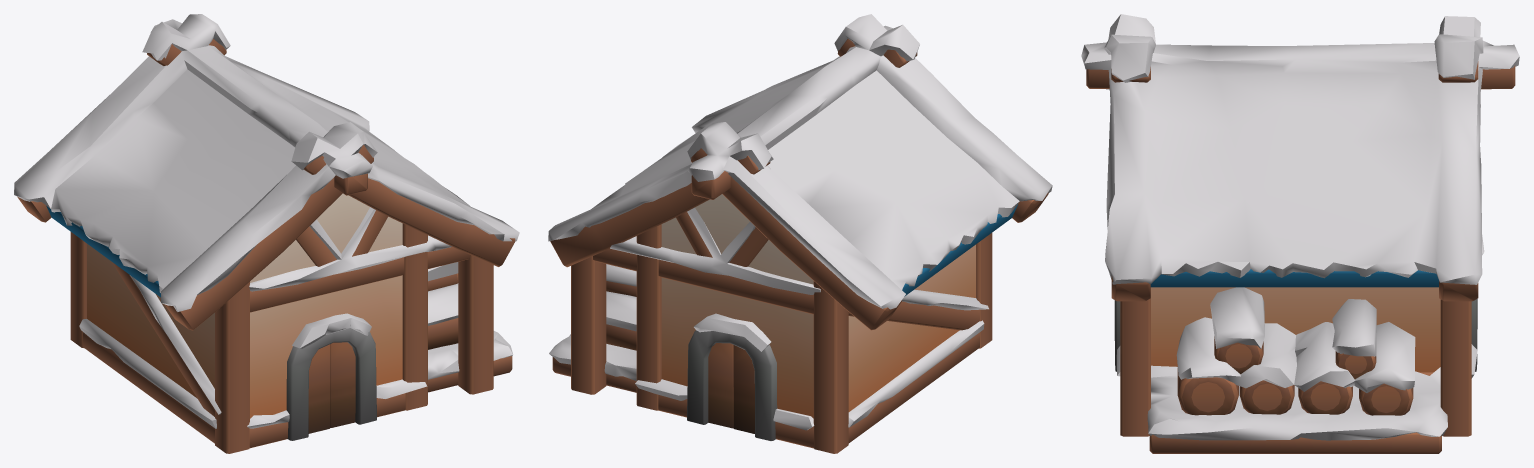
File: WareHouseSnowy_2.fbx
The picture shows the model from 3 angles, left to right: view 1: azimuth 30°, elevation 25°; view 2: azimuth 150°, elevation 25°; view 3: azimuth 270°, elevation 25°; orthographic projection. The views are drawn at different scales.
Parts seen in each view (by area): view 1: WareHouseSnowy_2; view 2: WareHouseSnowy_2; view 3: WareHouseSnowy_2.
Part boxes in pixels (left/top/right/bottom): WareHouseSnowy_2: left=14, top=14, right=519, bottom=453; WareHouseSnowy_2: left=548, top=14, right=1052, bottom=453; WareHouseSnowy_2: left=1081, top=14, right=1519, bottom=453.
Bounding box in the file's own units: 373 × 291 × 352.
